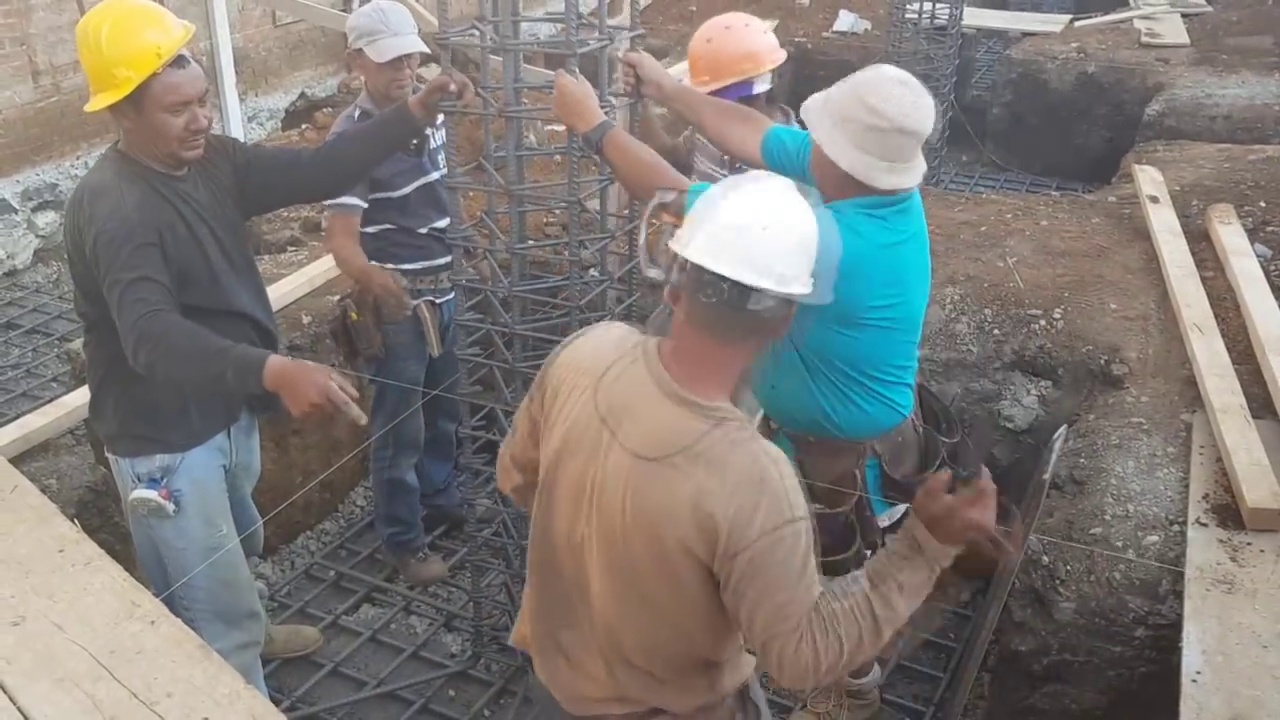helmet: (669, 170, 822, 297), (74, 2, 198, 117), (685, 10, 789, 93)
helmet-off: (799, 63, 939, 209), (343, 3, 428, 107)
helmet-on: (654, 171, 823, 407), (70, 2, 216, 177), (685, 8, 790, 125)
person: (58, 2, 470, 705), (493, 171, 998, 717), (548, 45, 938, 708), (324, 3, 470, 584)
